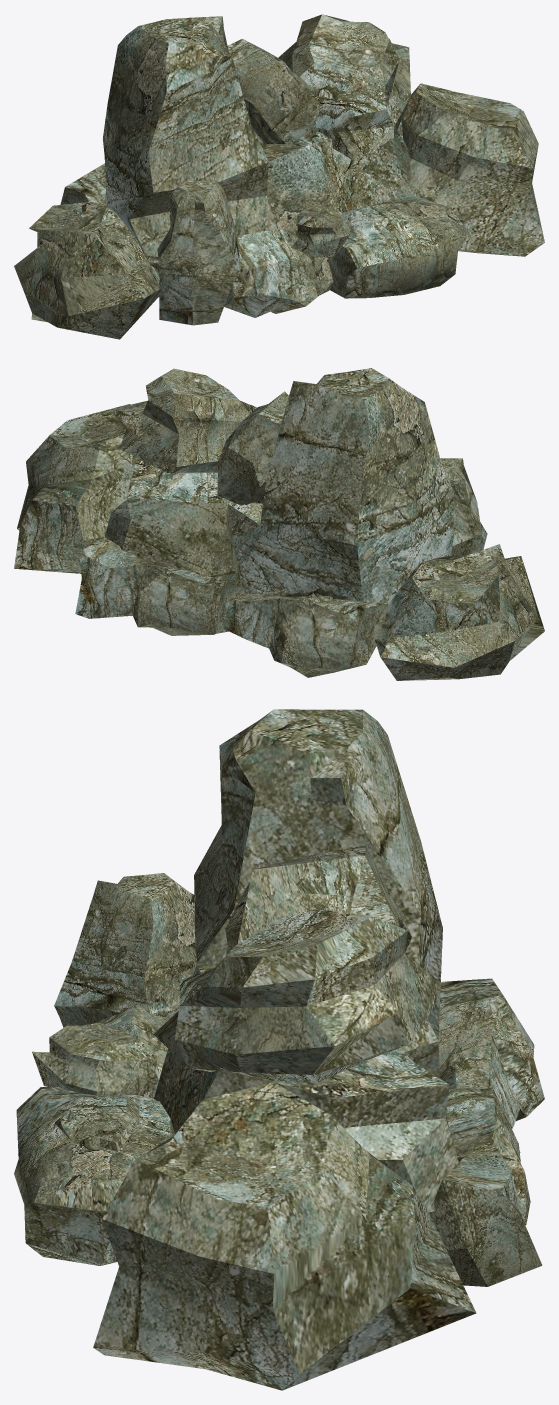
The model's file is geo_rock_set_01_temperate_stonemine.dae.
3 renders of one model, top to bottom at view 1: azimuth 30°, elevation 25°; view 2: azimuth 150°, elevation 25°; view 3: azimuth 270°, elevation 25°, orthographic. The views are drawn at different scales.
Visible parts, largest first — view 1: Cube_003; view 2: Cube_003; view 3: Cube_003.
Boxes of the visible parts, x1,y1,x2,y2 form: Cube_003: (14, 14, 544, 339); Cube_003: (14, 368, 544, 680); Cube_003: (14, 709, 544, 1390).
Size of the model in its own units: 23.84 by 13.55 by 12.09.
Materials: 1 (1 with a texture image).
